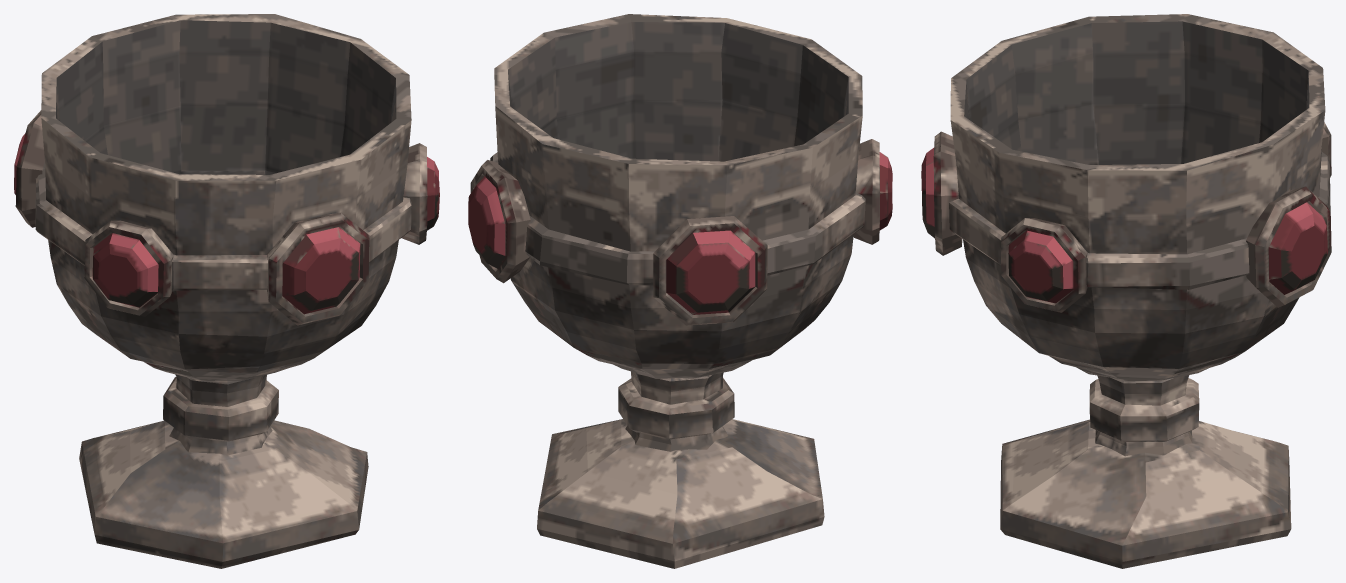
The model's file is CI07_SilverRubyGoblet.fbx.
The picture shows the model from 3 angles, left to right: view 1: azimuth 30°, elevation 25°; view 2: azimuth 150°, elevation 25°; view 3: azimuth 270°, elevation 25°; orthographic projection.
Visible parts, largest first — view 1: CI07_SilverRubyGoblet; view 2: CI07_SilverRubyGoblet; view 3: CI07_SilverRubyGoblet.
Boxes of the visible parts, bbox=[...] form: CI07_SilverRubyGoblet: bbox=[14, 14, 439, 568]; CI07_SilverRubyGoblet: bbox=[468, 14, 892, 568]; CI07_SilverRubyGoblet: bbox=[921, 14, 1331, 568].
Size of the model in its own units: 0.1912 by 0.22 by 0.1956.
Materials: 1 (1 with a texture image).
